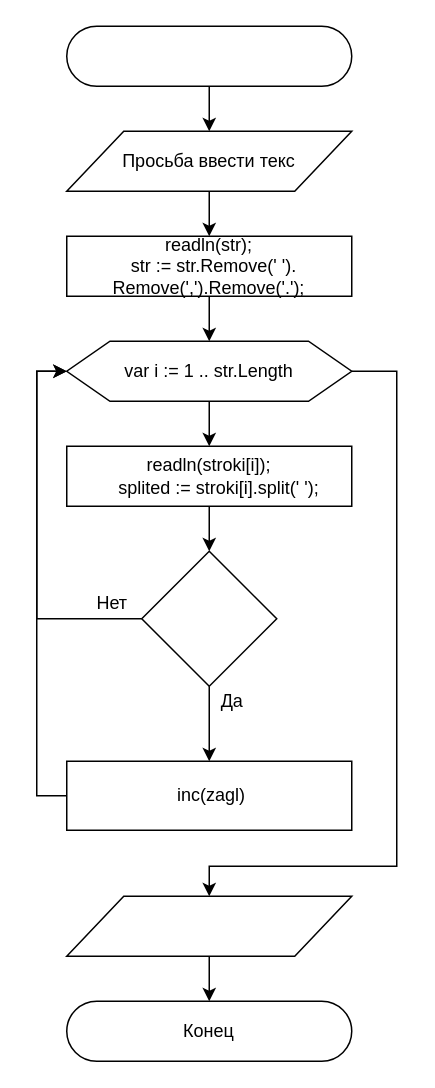
This 435x1088 diagram has some shape labels left out. The centre of each missing label's shape, as x and y in pixels:
str[i].IsUpper(): point (208, 618)
Вывод на экран процентного соотношения: point (208, 925)
Начало: point (208, 55)
